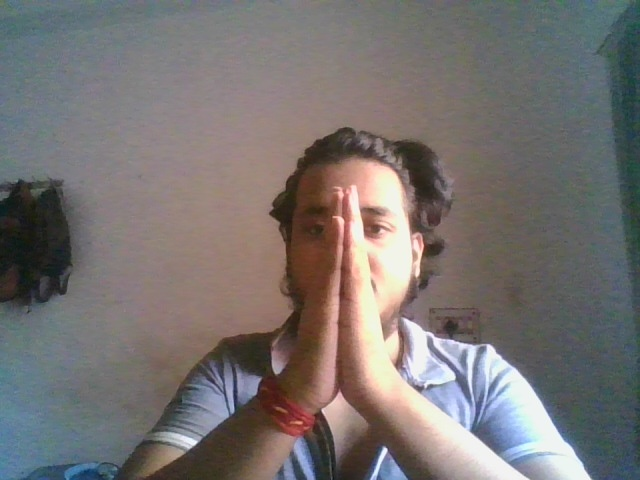ThankYou: (299, 184, 385, 408)
